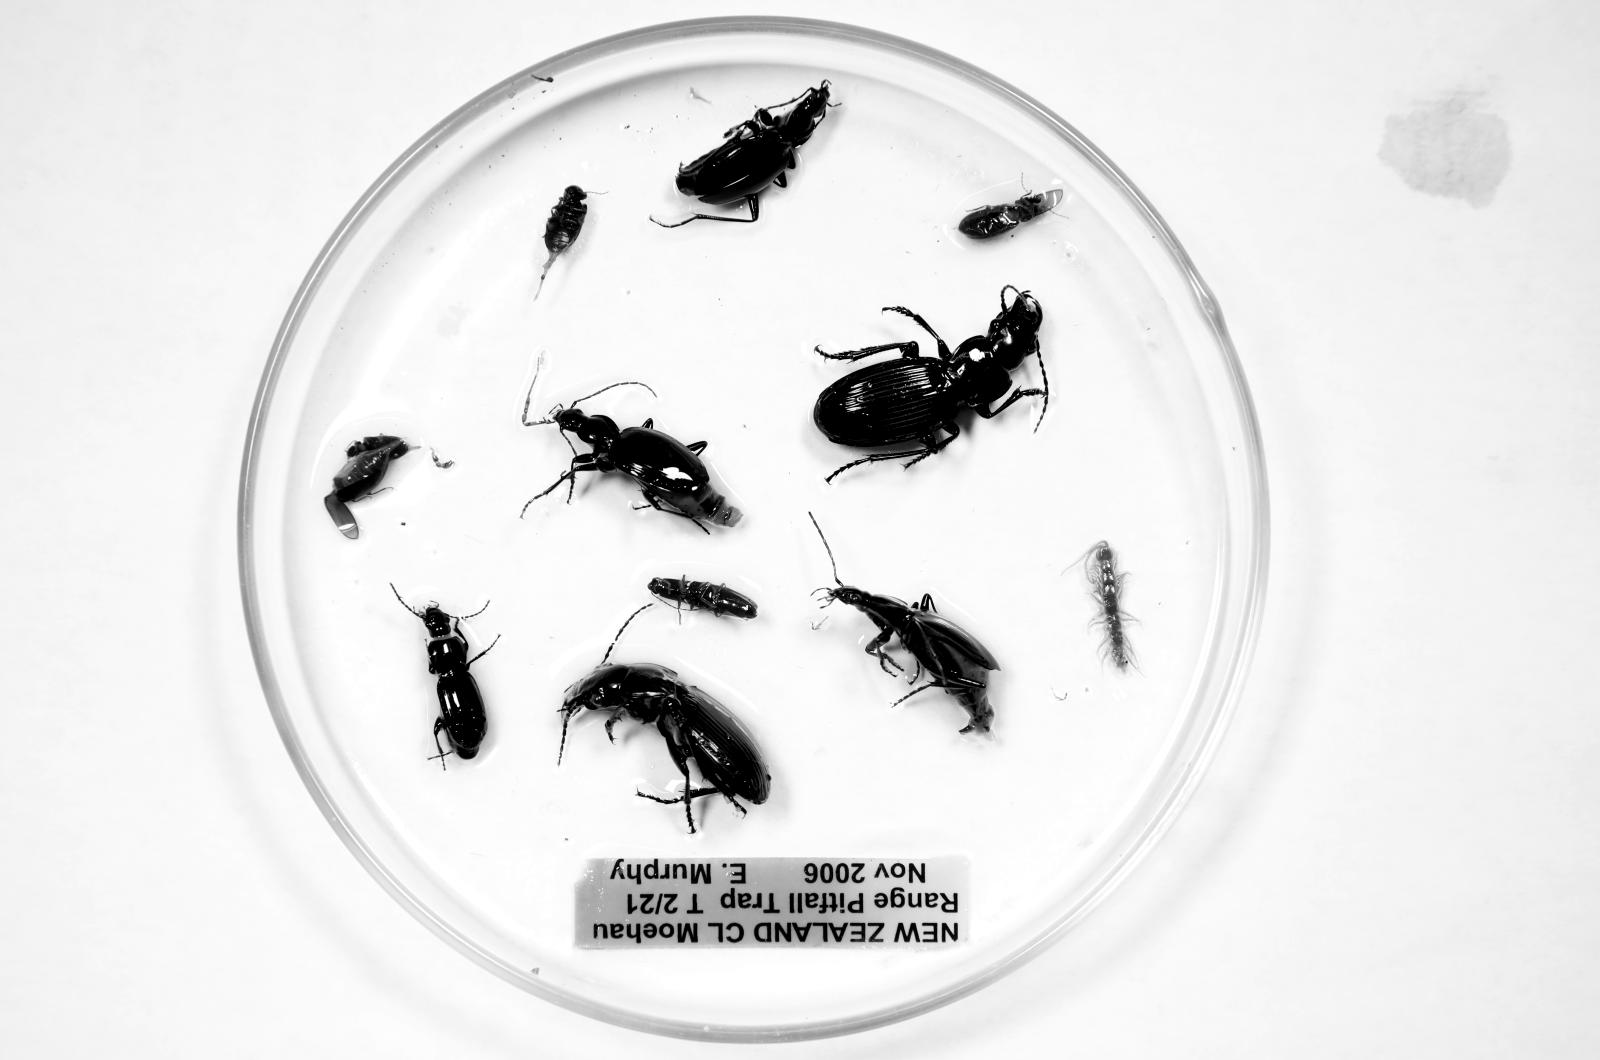carabidae: (813, 286, 1048, 460), (559, 664, 771, 833), (814, 582, 999, 740), (539, 407, 742, 526), (676, 81, 832, 205), (406, 602, 487, 759)
chilopoda: (1077, 540, 1138, 673)
coleoptera: (958, 190, 1062, 239), (648, 576, 757, 619), (543, 185, 588, 276)
